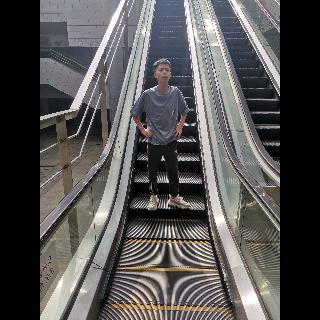normal: (129, 58, 191, 212)
